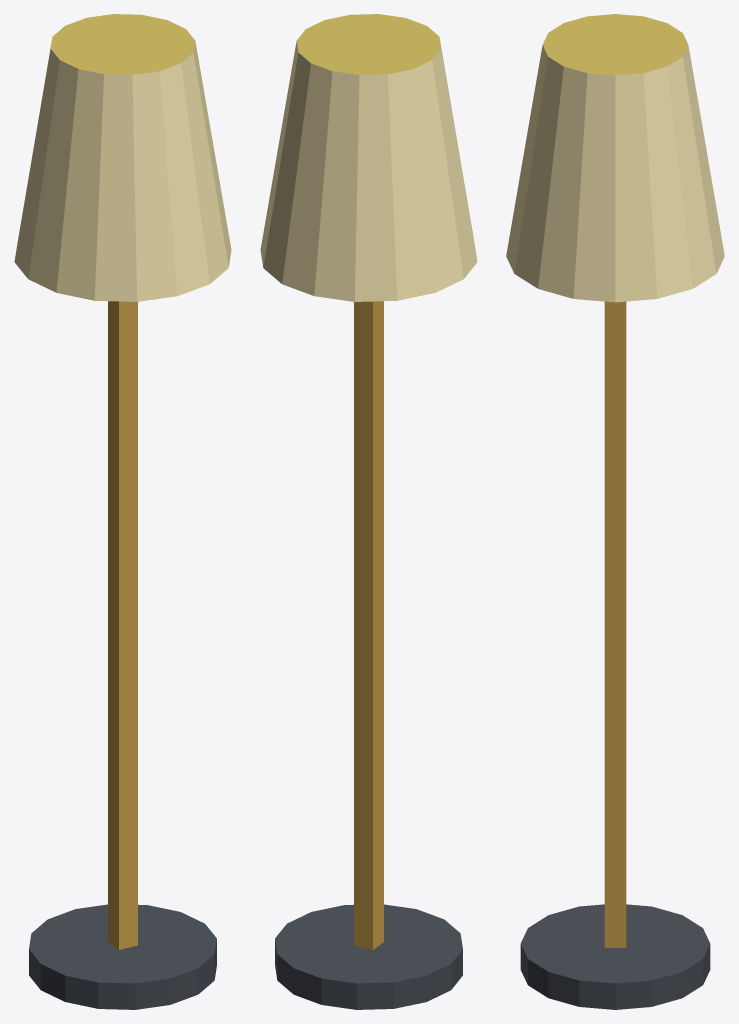
File: floor_lamp.glb
3 views of the same model, side by side, from view 1: azimuth 30°, elevation 25°; view 2: azimuth 150°, elevation 25°; view 3: azimuth 270°, elevation 25° (orthographic).
Visible parts, largest first — view 1: floor_lamp_Body; view 2: floor_lamp_Body; view 3: floor_lamp_Body.
Part boxes in pixels (x1=…): floor_lamp_Body: x1=14, y1=14, x2=231, y2=1009; floor_lamp_Body: x1=260, y1=14, x2=477, y2=1009; floor_lamp_Body: x1=506, y1=14, x2=724, y2=1009.
Bounding box in the file's own units: 0.3 × 1.4 × 0.3.
